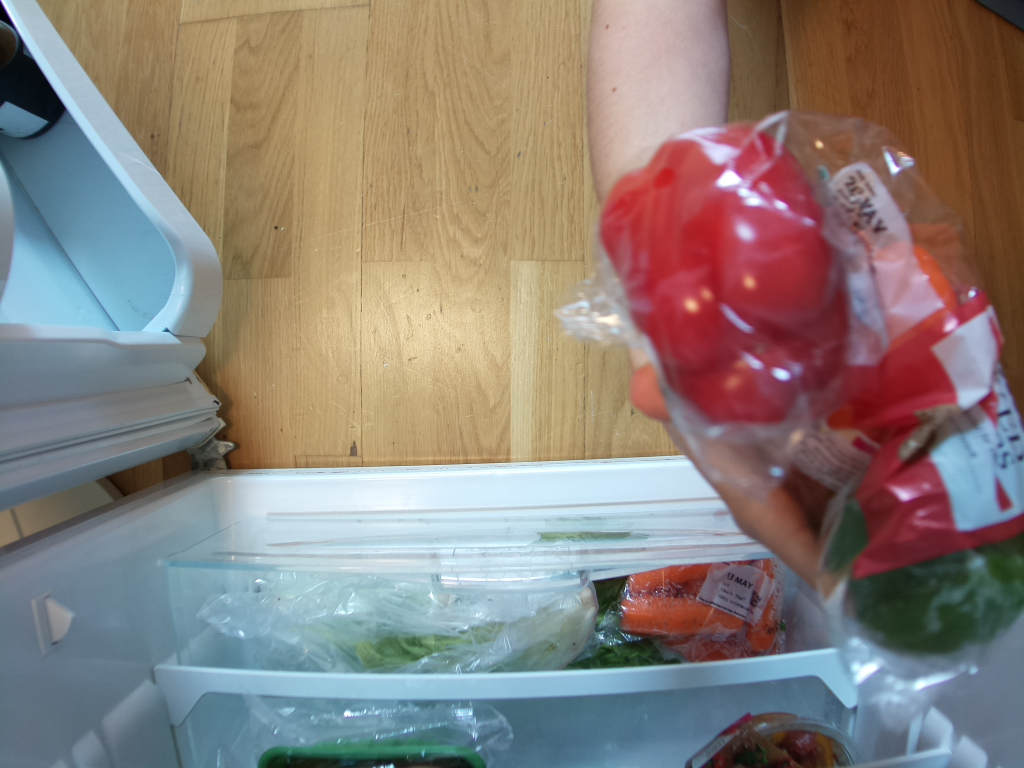pepper: (596, 123, 856, 429), (827, 511, 1024, 661)
